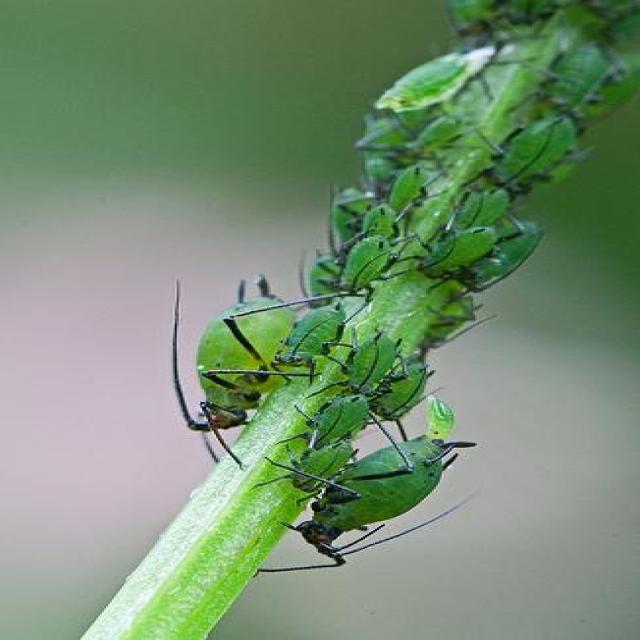Aphids: (165, 288, 308, 444), (314, 414, 463, 560), (420, 211, 520, 301), (281, 296, 379, 382), (377, 347, 430, 447), (344, 333, 398, 416)
